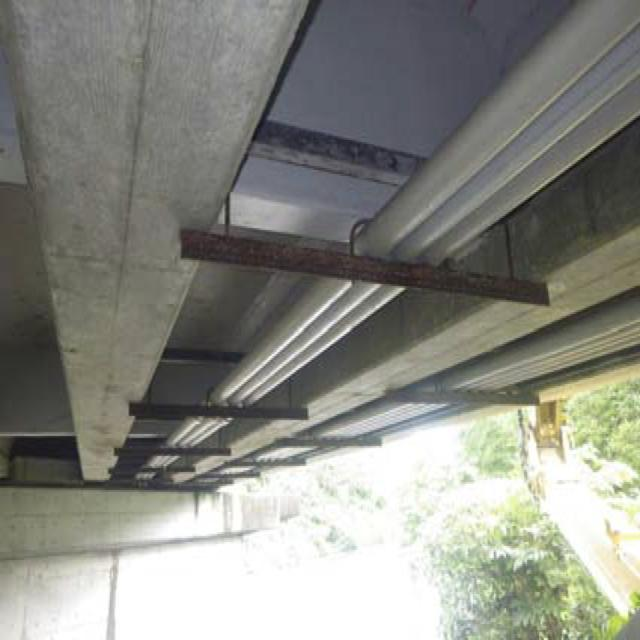corrosion: (186, 217, 570, 324)
